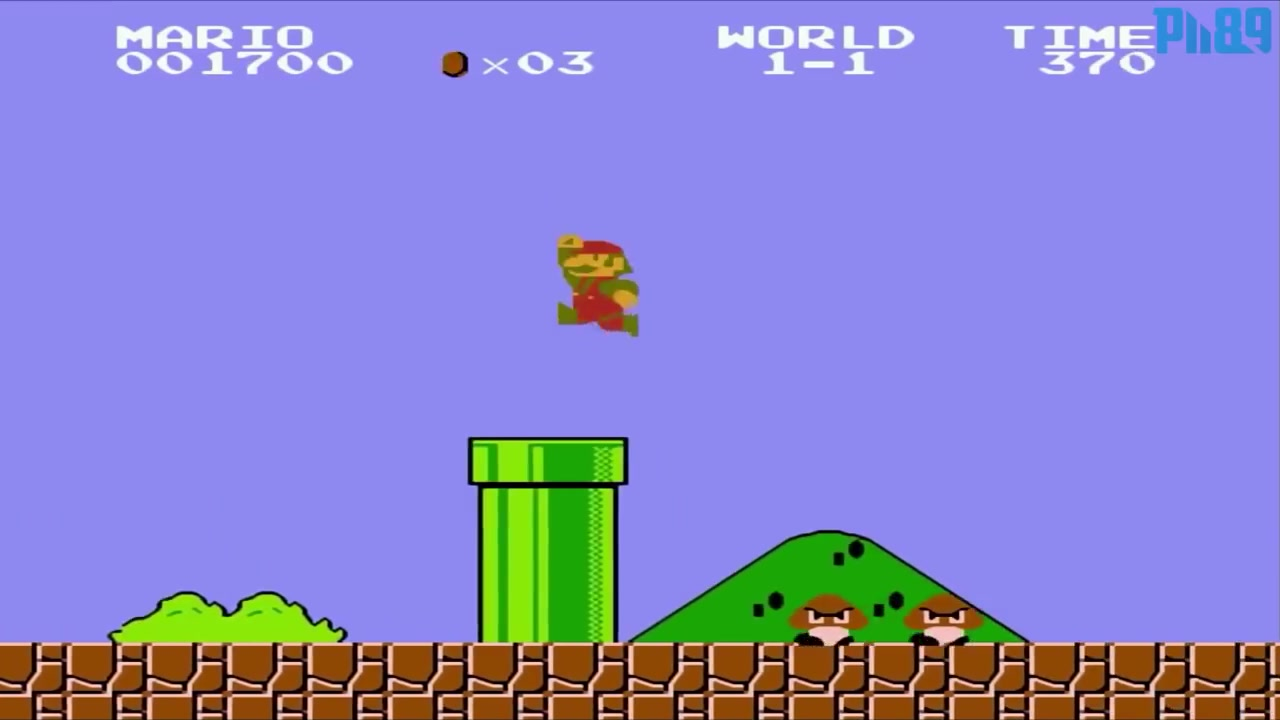mario: (545, 225, 647, 346)
